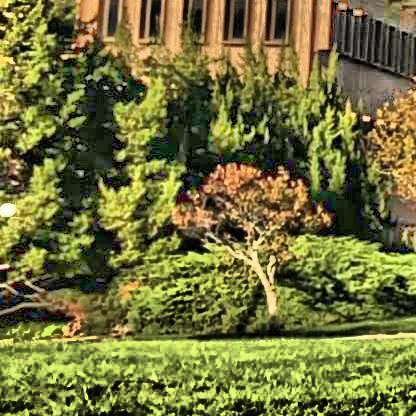golfball: (0, 199, 15, 214)
